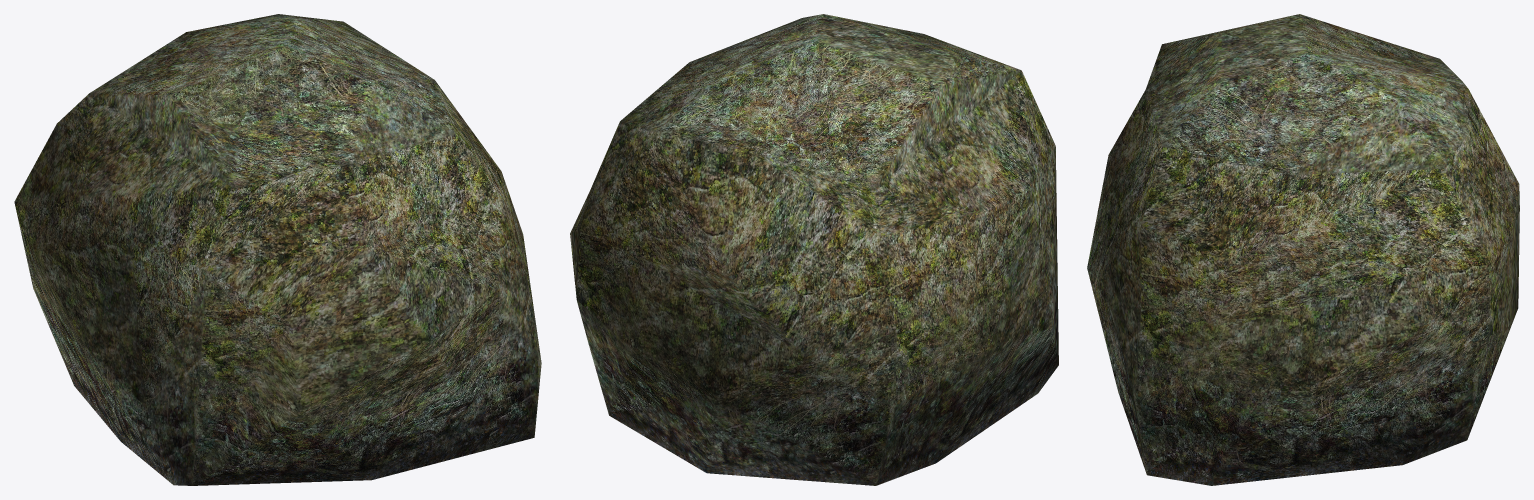
File: thm_all_cavewall_damprock_a1_l2.fbx
3 renders of one model, left to right at view 1: azimuth 30°, elevation 25°; view 2: azimuth 150°, elevation 25°; view 3: azimuth 270°, elevation 25°, orthographic. The views are drawn at different scales.
Visible parts, largest first — view 1: mesh_node; view 2: mesh_node; view 3: mesh_node.
Boxes of the visible parts, <box> form: mesh_node: <box>14,14,541,485</box>; mesh_node: <box>570,14,1058,485</box>; mesh_node: <box>1087,14,1519,485</box>.
Bounding box in the file's own units: 10.81 × 10.79 × 10.77.
